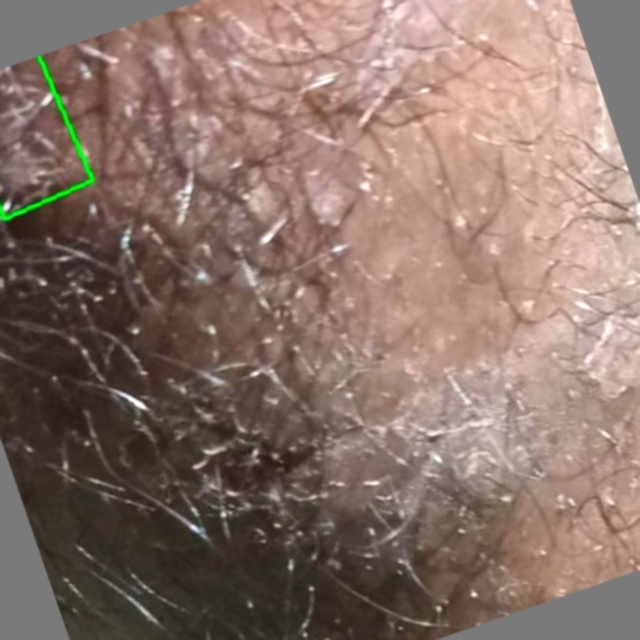Eczema: (0, 56, 92, 219)
